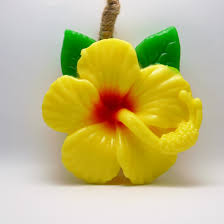hybiscus: (33, 37, 206, 188)
